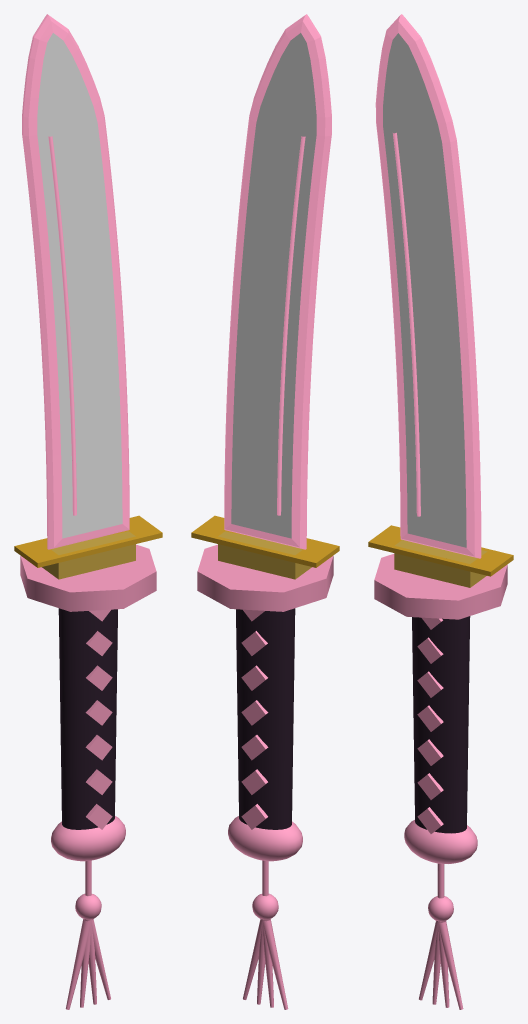
Rendered from 18_Rare_Sakura_Blade.glb.
3 renders of one model, left to right at view 1: azimuth 30°, elevation 25°; view 2: azimuth 150°, elevation 25°; view 3: azimuth 330°, elevation 25°, orthographic.
Visible parts, largest first — view 1: blade_2, handle_3, tsuba_0, pommel_19, habaki_1, guard_trim_28, blade_inlay_27, tassel_strand_22, tassel_knot_21, tassel_strand_25, tassel_strand_23, tassel_strand_24 (+6 smaller); view 2: blade_2, handle_3, tsuba_0, pommel_19, habaki_1, guard_trim_28, blade_inlay_26, tassel_strand_22, tassel_knot_21, tassel_strand_25, tassel_strand_23, tassel_strand_24 (+6 smaller); view 3: blade_2, handle_3, tsuba_0, pommel_19, habaki_1, guard_trim_28, blade_inlay_27, tassel_strand_25, tassel_knot_21, tassel_strand_22, tassel_strand_24, tassel_strand_23 (+6 smaller).
Part boxes in pixels (<box>): blade_2: <box>22,14,129,549</box>; handle_3: <box>58,608,117,829</box>; tsuba_0: <box>20,544,156,611</box>; pommel_19: <box>51,816,125,861</box>; habaki_1: <box>42,531,135,579</box>; guard_trim_28: <box>14,515,162,567</box>; blade_inlay_27: <box>48,136,76,515</box>; tassel_strand_22: <box>65,919,93,1009</box>; tassel_knot_21: <box>75,893,101,919</box>; tassel_strand_25: <box>83,919,110,999</box>; tassel_strand_23: <box>80,922,90,1007</box>; tassel_strand_24: <box>88,922,96,1004</box>; blade_2: <box>224,14,331,549</box>; handle_3: <box>236,608,295,829</box>; tsuba_0: <box>197,544,333,611</box>; pommel_19: <box>228,816,302,861</box>; habaki_1: <box>218,531,311,579</box>; guard_trim_28: <box>191,515,339,567</box>; blade_inlay_26: <box>277,136,305,515</box>; tassel_strand_22: <box>260,919,288,1009</box>; tassel_knot_21: <box>252,893,278,919</box>; tassel_strand_25: <box>243,919,270,999</box>; tassel_strand_23: <box>263,922,273,1007</box>; tassel_strand_24: <box>257,922,265,1004</box>; blade_2: <box>375,14,481,558</box>; handle_3: <box>412,616,470,833</box>; tsuba_0: <box>374,554,507,619</box>; pommel_19: <box>404,820,477,863</box>; habaki_1: <box>394,540,487,587</box>; guard_trim_28: <box>368,525,513,576</box>; blade_inlay_27: <box>393,132,420,516</box>; tassel_strand_25: <box>436,920,463,1009</box>; tassel_knot_21: <box>428,896,453,921</box>; tassel_strand_22: <box>419,920,445,1000</box>; tassel_strand_24: <box>438,925,449,1007</box>; tassel_strand_23: <box>432,924,440,1004</box>.
Size of the model in its own units: 0.1104 by 0.8235 by 0.105.
Materials: 10 (10 with a texture image).
